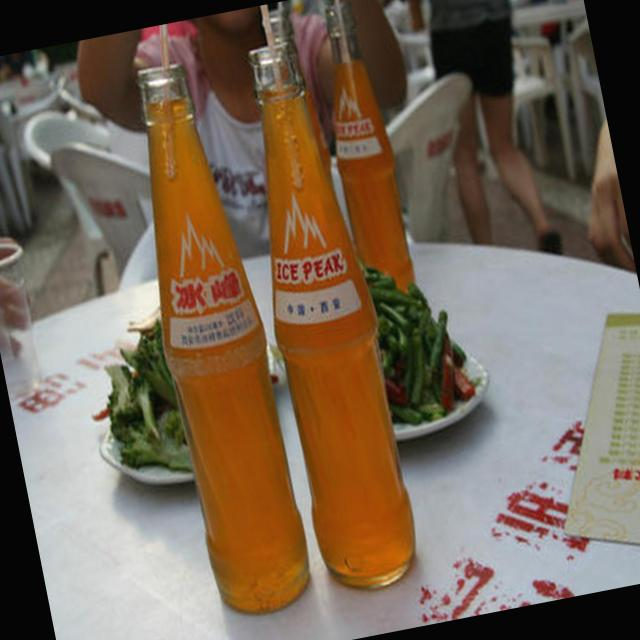bottle: (107, 54, 320, 626), (212, 34, 428, 594), (306, 0, 421, 300)
